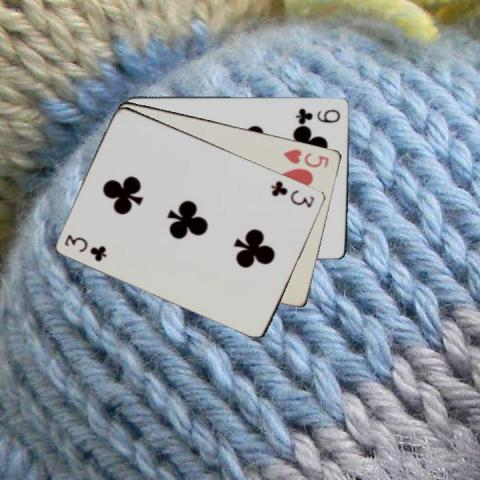3c: (269, 177, 316, 209), (62, 231, 108, 263)
5h: (280, 145, 331, 169)
9c: (293, 105, 342, 122)
